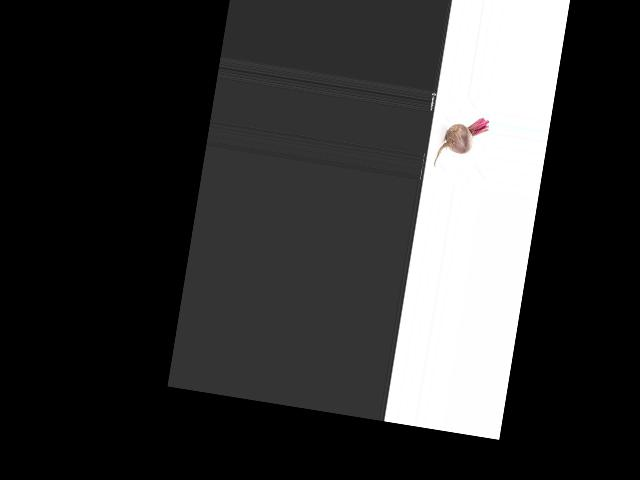beet: (433, 112, 489, 174)
